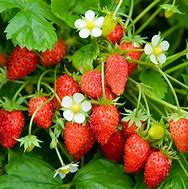Fresa: (90, 99, 120, 144), (7, 45, 39, 80), (144, 148, 171, 188), (104, 51, 128, 95), (124, 135, 151, 174), (1, 104, 25, 147), (53, 73, 80, 109), (28, 93, 55, 128), (120, 35, 142, 76), (79, 67, 106, 98), (64, 121, 89, 154), (40, 38, 67, 66), (121, 109, 146, 137), (169, 116, 188, 152)
